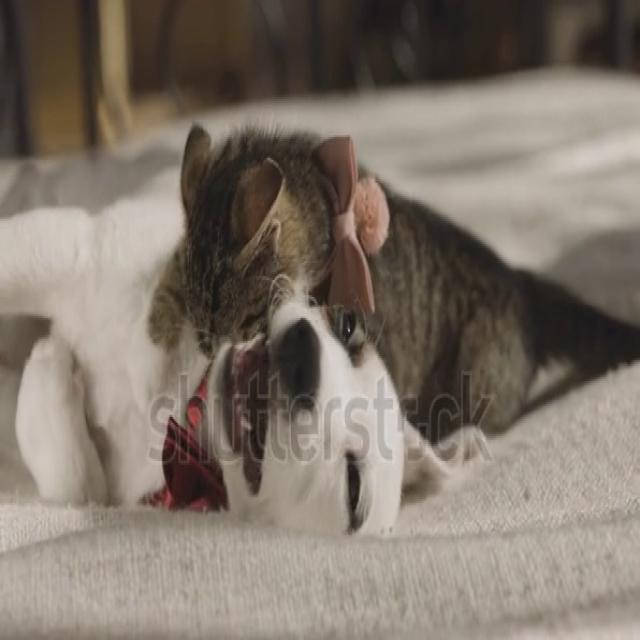normal_animals: (0, 112, 638, 543)
